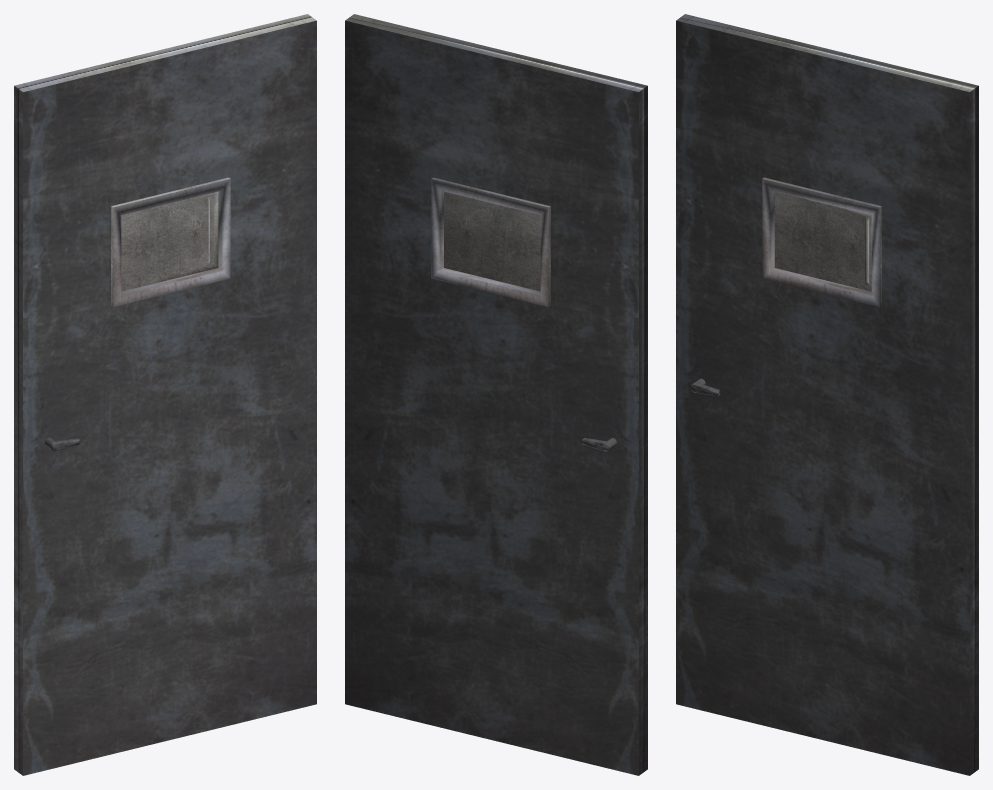
Rendered from prison door.FBX.
3 views of the same model, side by side, from view 1: azimuth 30°, elevation 25°; view 2: azimuth 150°, elevation 25°; view 3: azimuth 330°, elevation 25° (orthographic).
Visible parts, largest first — view 1: prison door; view 2: prison door; view 3: prison door.
Part boxes in pixels (bbox=[...]): prison door: bbox=[14, 14, 316, 775]; prison door: bbox=[345, 14, 647, 775]; prison door: bbox=[676, 14, 978, 775].
Bounding box in the file's own units: 0.9301 × 2.07 × 0.1337.
Materials: 1 (1 with a texture image).
